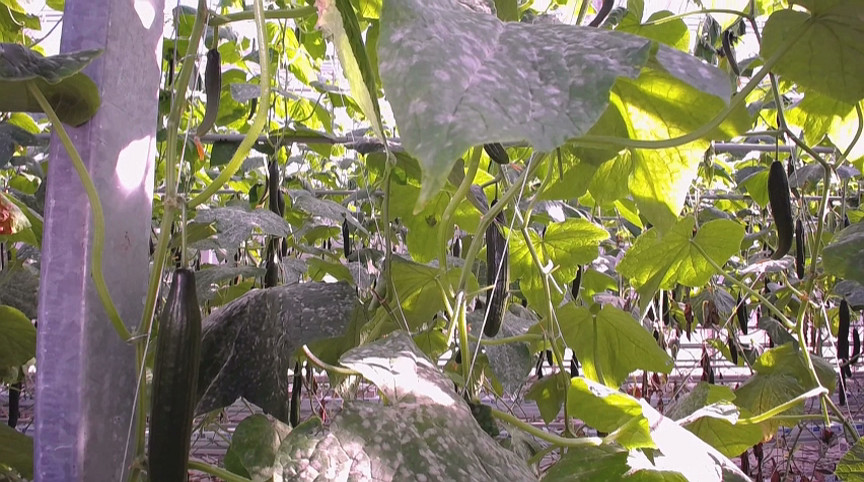cucumber: (148, 266, 201, 482), (484, 205, 509, 339), (196, 48, 224, 138), (770, 161, 791, 261), (838, 300, 854, 377), (482, 141, 510, 165), (796, 221, 805, 279)
